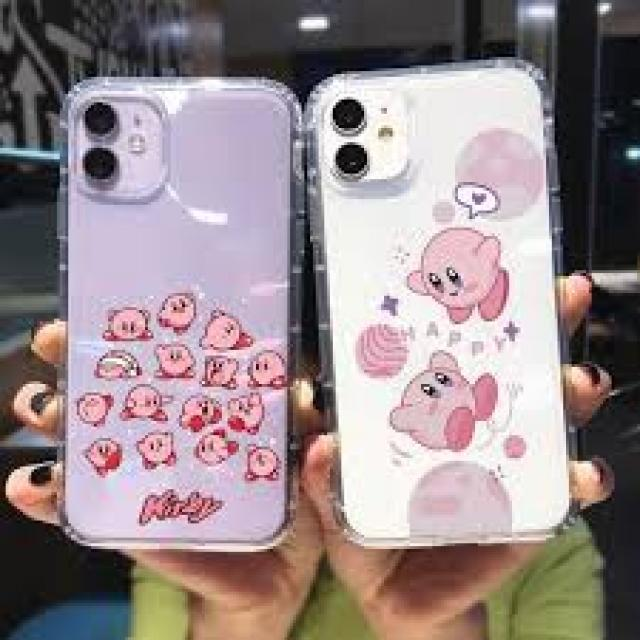phone: (312, 47, 564, 550), (45, 72, 308, 552)
